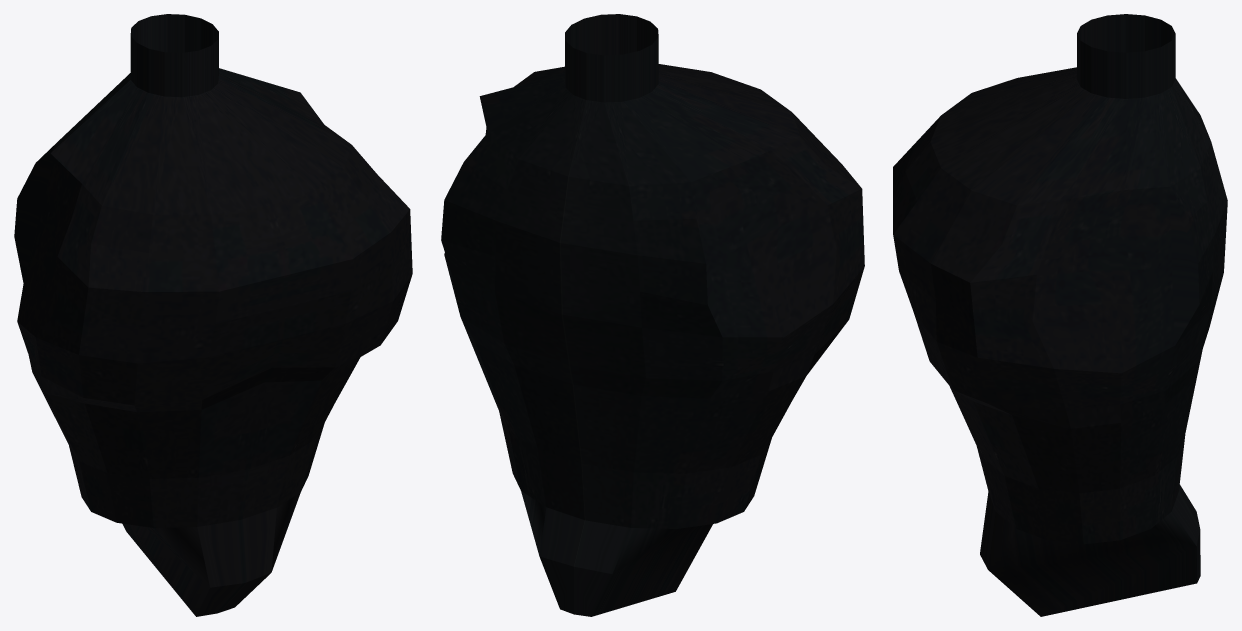
The model's file is cuerpo.obj.
The picture shows the model from 3 angles, left to right: view 1: azimuth 30°, elevation 25°; view 2: azimuth 150°, elevation 25°; view 3: azimuth 270°, elevation 25°; orthographic projection. The views are drawn at different scales.
Visible parts, largest first — view 1: Cylinder.000; view 2: Cylinder.000; view 3: Cylinder.000.
Boxes of the visible parts, bbox=[...] form: Cylinder.000: bbox=[14, 14, 412, 616]; Cylinder.000: bbox=[441, 14, 864, 616]; Cylinder.000: bbox=[893, 14, 1227, 616].
Bounding box in the file's own units: 0.984 × 1.49 × 0.786.
